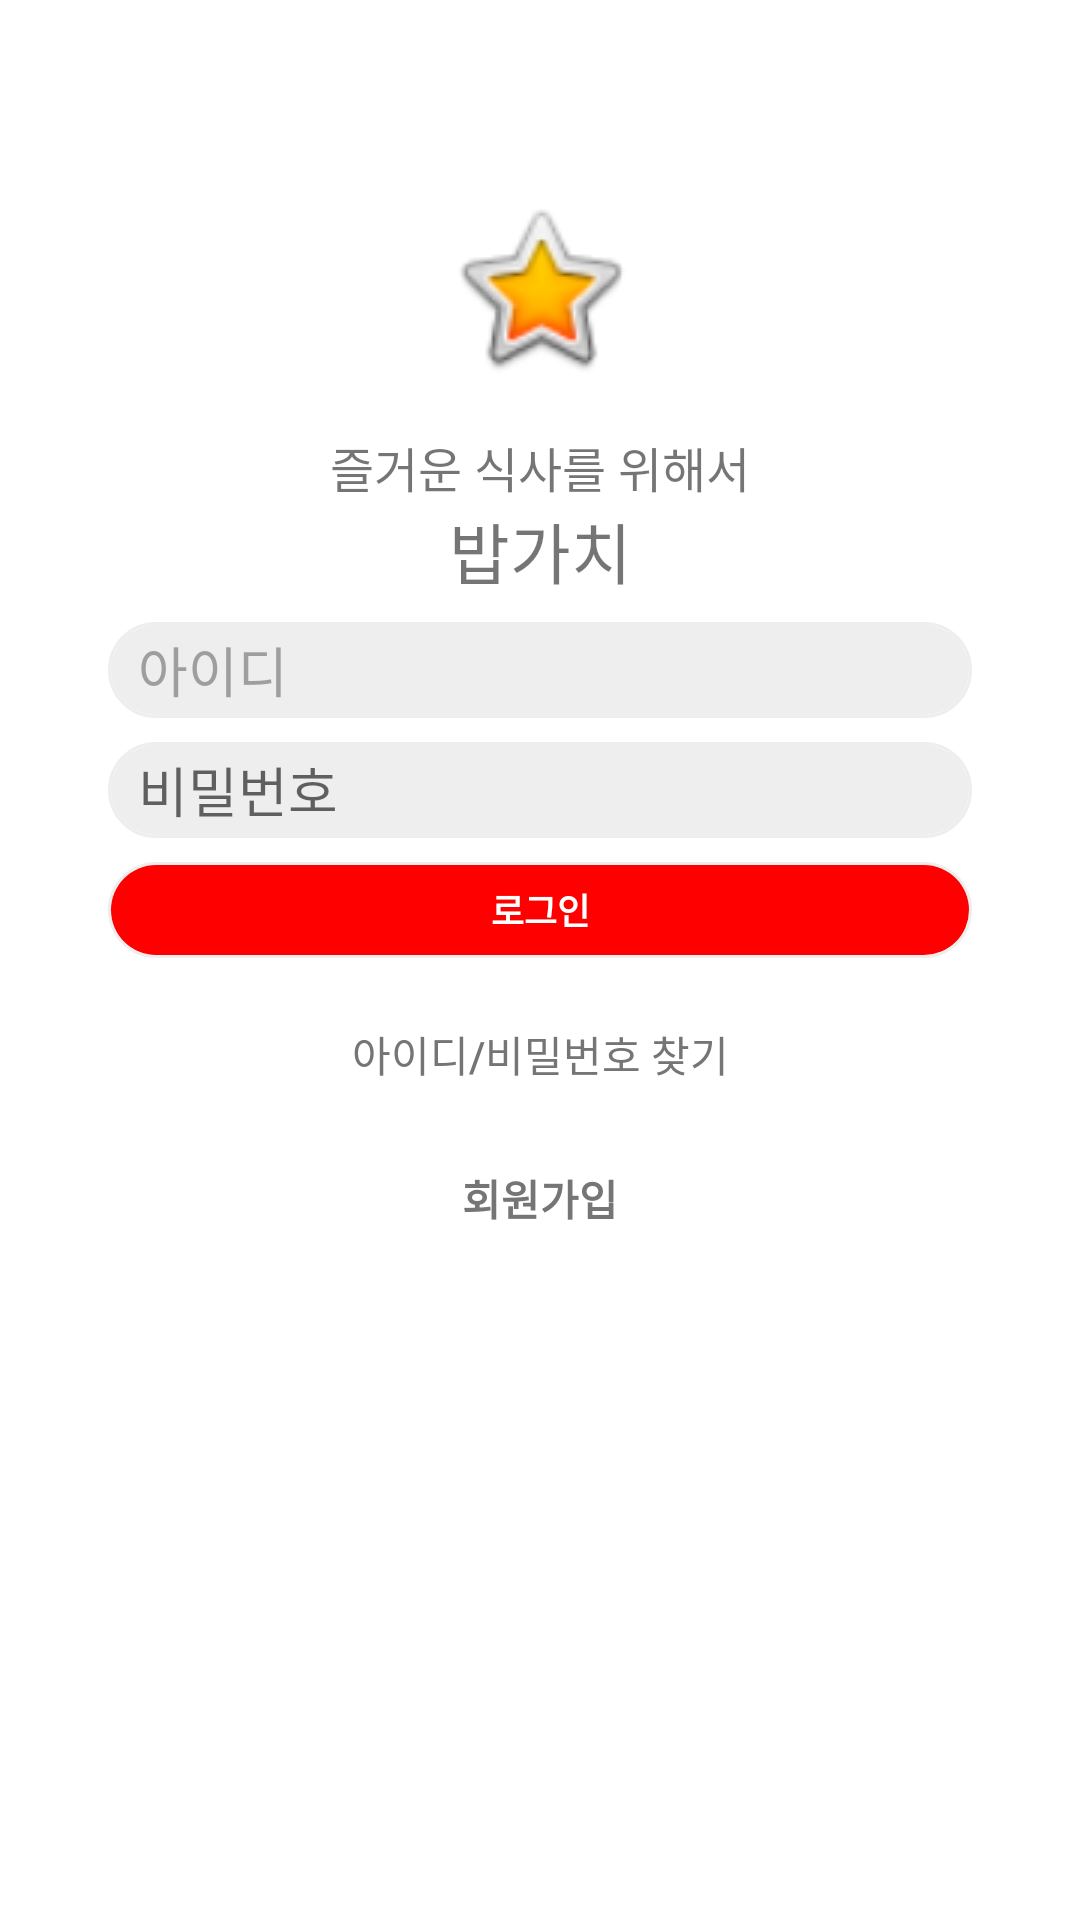

Icons on this 1080px x 1920px Android screen, each with the point to tap as [x,y]:
star on: [541,289]
